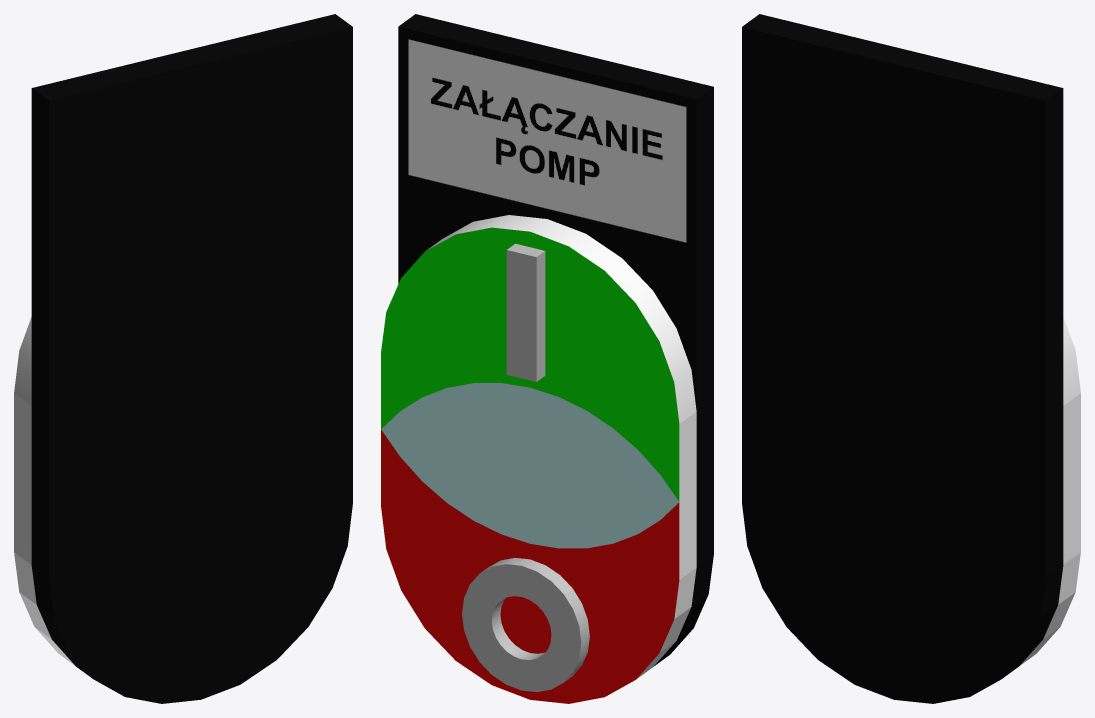
File: załączanie-pomp.fbx
The picture shows the model from 3 angles, left to right: view 1: azimuth 30°, elevation 25°; view 2: azimuth 150°, elevation 25°; view 3: azimuth 330°, elevation 25°; orthographic projection.
Parts seen in each view (by area): view 1: Model; view 2: Model; view 3: Model.
Part boxes in pixels (bbox=[...]): Model: bbox=[14, 14, 352, 703]; Model: bbox=[381, 14, 713, 703]; Model: bbox=[742, 14, 1080, 703].
Size of the model in its own units: 0.1 by 0.2 by 0.025.
